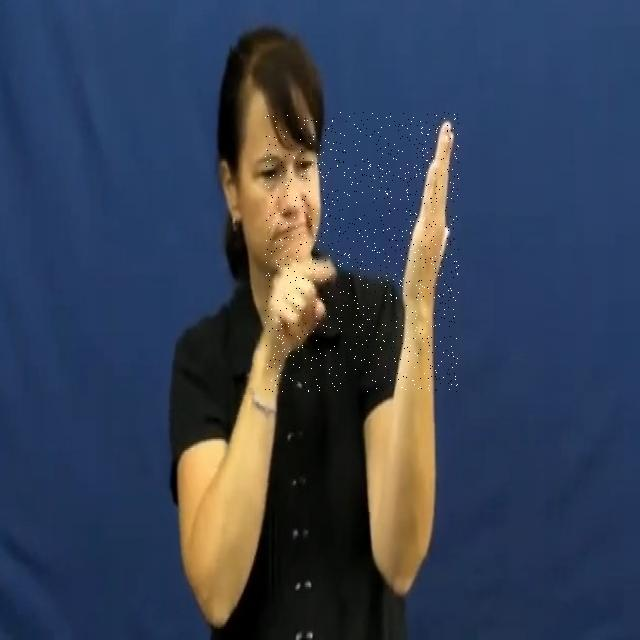menu: (265, 112, 459, 392)
